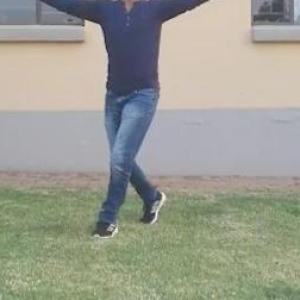takeoff: (6, 0, 237, 199)
